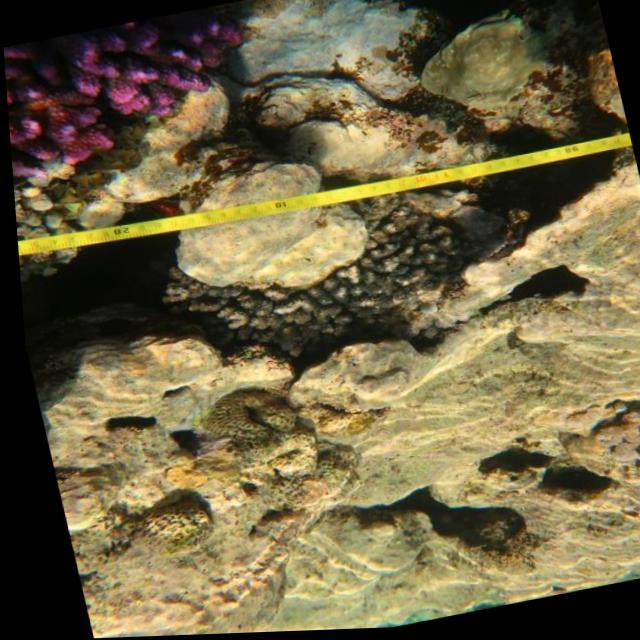Healthy Coral: (0, 0, 273, 178)
